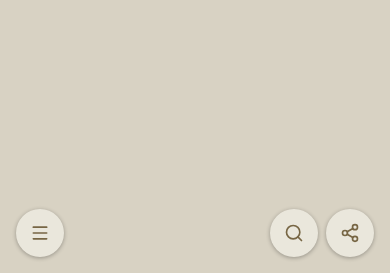
Test case: FloatingToolbar › меню закрывается повторным нажатием на кнопку
This screenshot has width=390, height=273.
Click the button named "Меню". click: (40, 233)
box: [16, 209, 64, 257]
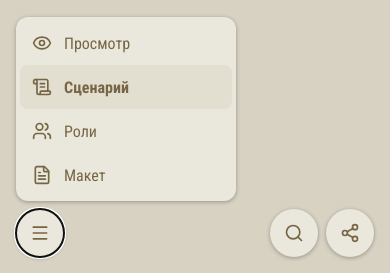
Click the button named "Меню". click: (40, 233)
box: [16, 209, 64, 257]
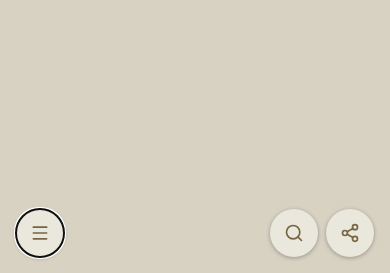
Result: the list item "Просмотр" is gone
